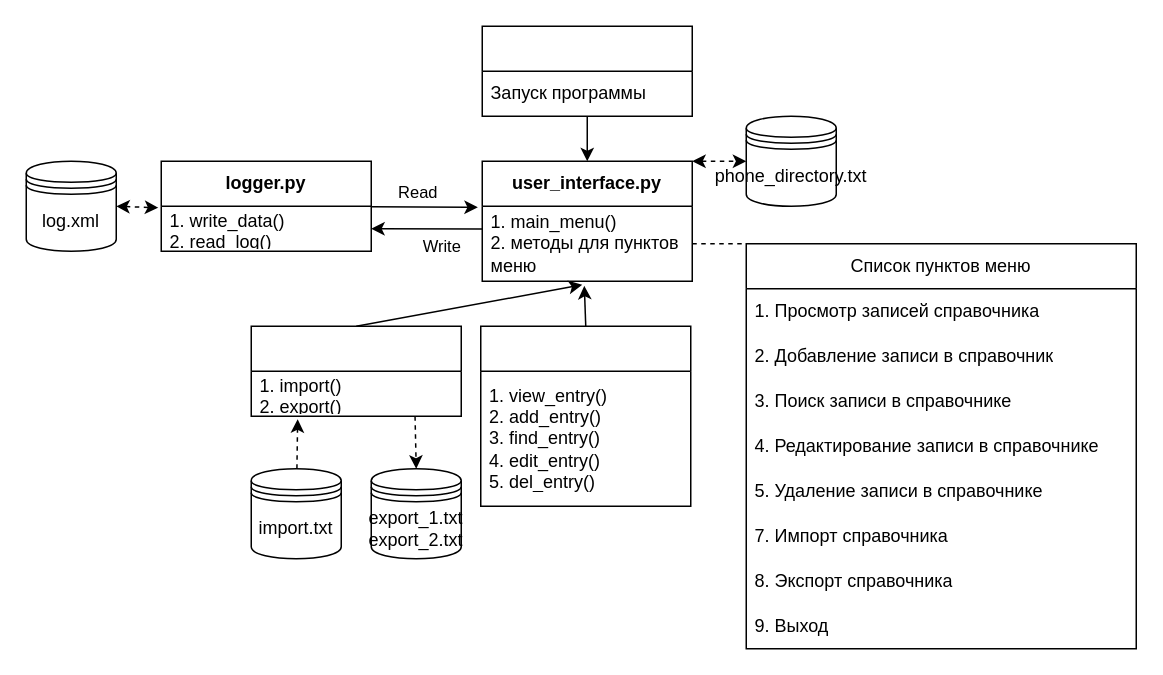
This 1163x675 diagram has some shape labels left out. The shapes that lost their labels are listed below. From the top down, each one's box as (x1, y1, x2, y2) in pixels, then its label:
(481, 25, 692, 116): main.py
(250, 325, 461, 416): actoins_file.py
(479, 325, 691, 506): actions_entry.py
